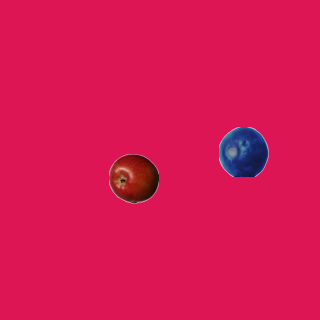Apple Braeburn: (108, 153, 158, 203)
Huckleberry: (218, 126, 268, 176)
